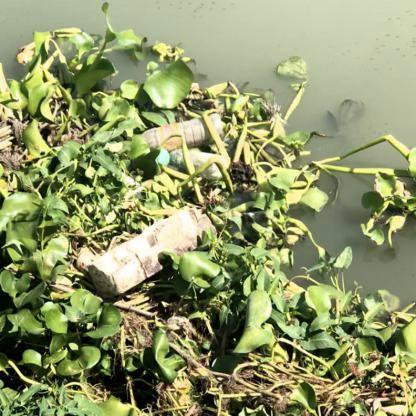Plastic: (142, 116, 233, 148), (152, 148, 229, 181)
Trash: (87, 203, 219, 300)
